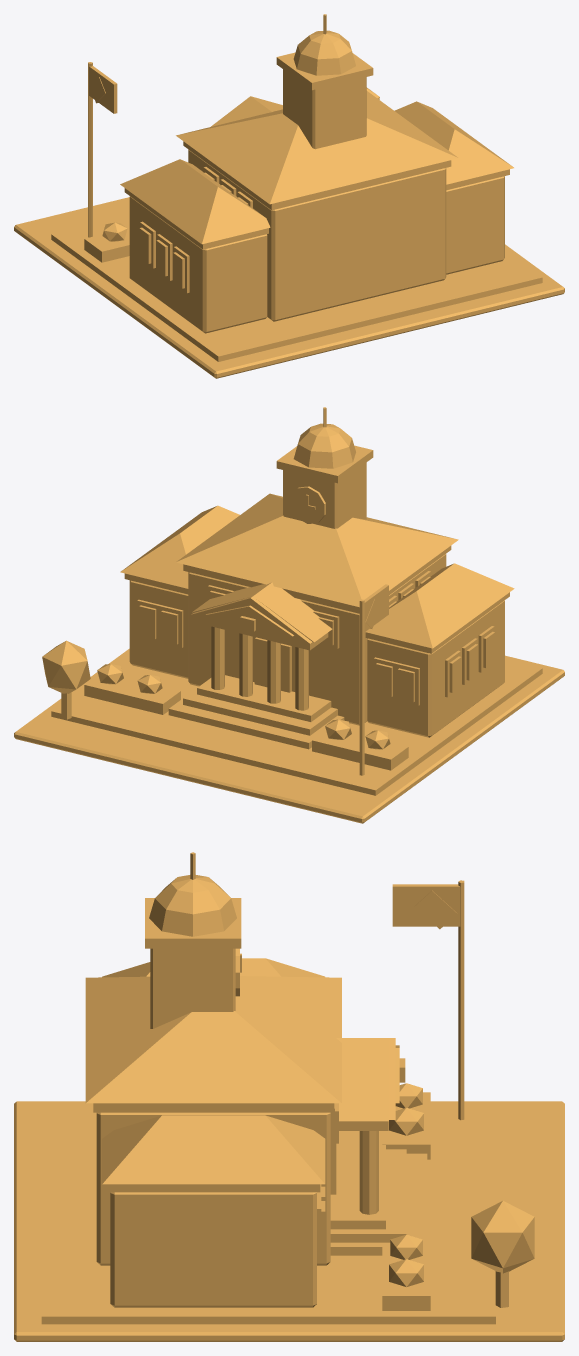
The picture shows the model from 3 angles, top to bottom: view 1: azimuth 30°, elevation 25°; view 2: azimuth 150°, elevation 25°; view 3: azimuth 270°, elevation 25°; orthographic projection. The views are drawn at different scales.
Visible parts, largest first — view 1: corpo; view 2: corpo; view 3: corpo.
Part boxes in pixels (x1,y1,x2,y2): corpo: (14, 14, 564, 378); corpo: (14, 407, 564, 823); corpo: (14, 852, 564, 1341).
Bounding box in the file's own units: 4 × 2.99 × 4.
